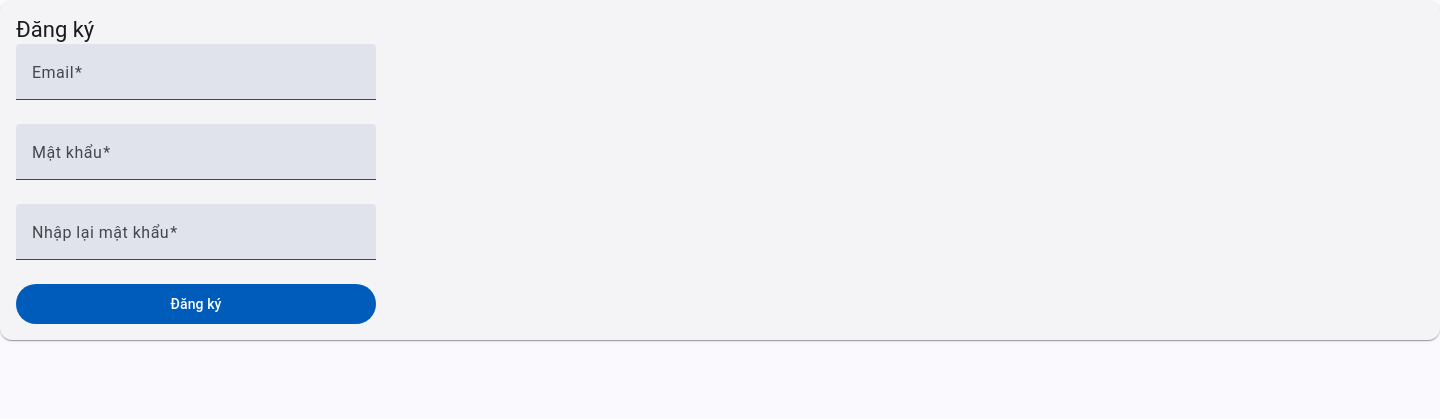
Test: RegisterComponent (KT-07) › 409: hiện "Email đã được đăng ký", mở khóa nút và giữ nội dung đã nhập
The image size is (1440, 419).
Type "a@b.vn" into the field labelled "Email" at [196, 80], box [32,68,360,92]
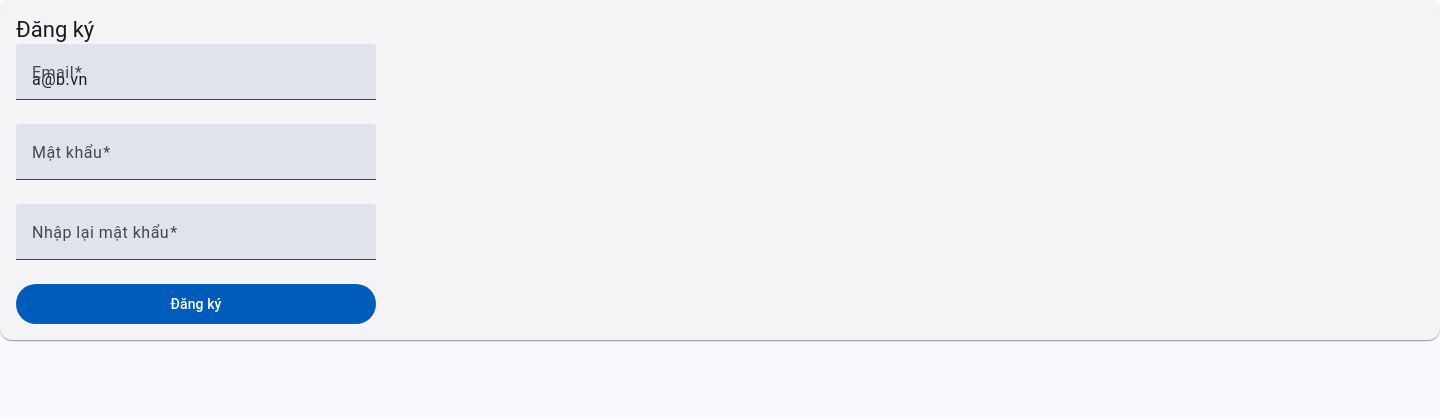
Type "Passw0rd" into the password field labelled "Mật khẩu" at [196, 160], box [32,148,360,172]
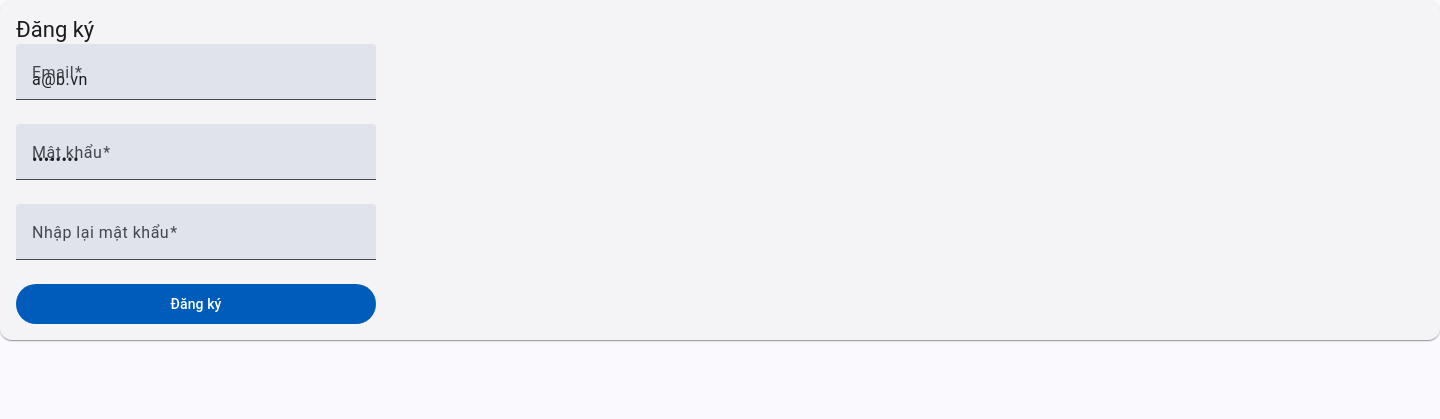
Type "Passw0rd" into the password field labelled "Nhập lại mật khẩu" at [196, 240], box [32,228,360,252]
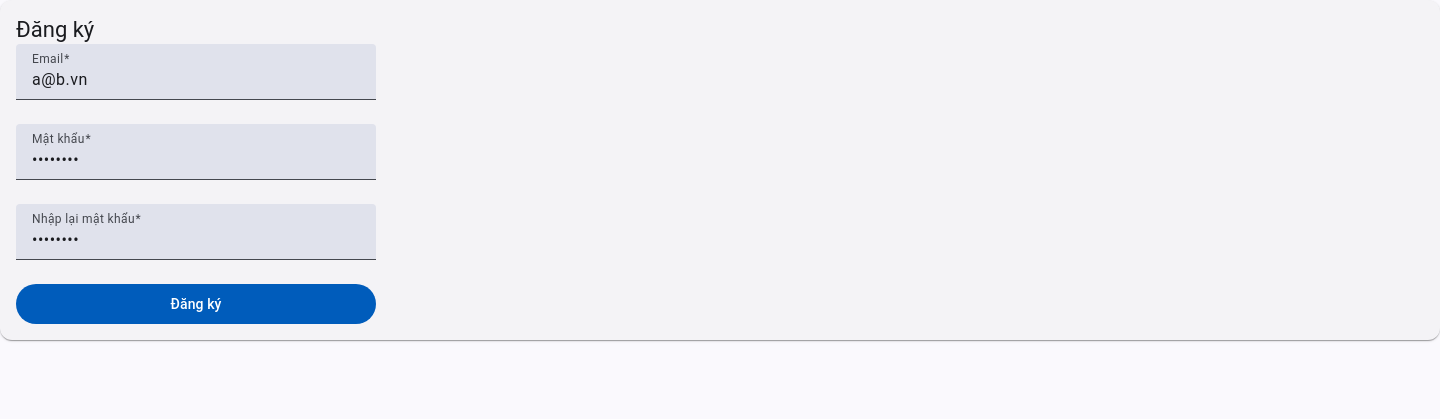
Submit the form, box [16,44,376,324]
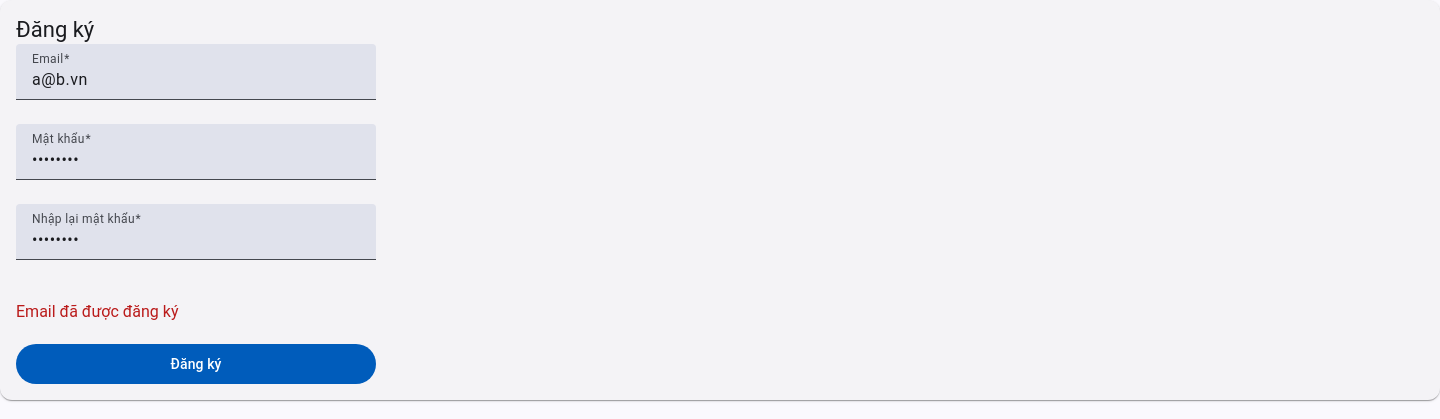
Expected: the message "Email đã được đăng ký" is shown, [16,302,178,321]
